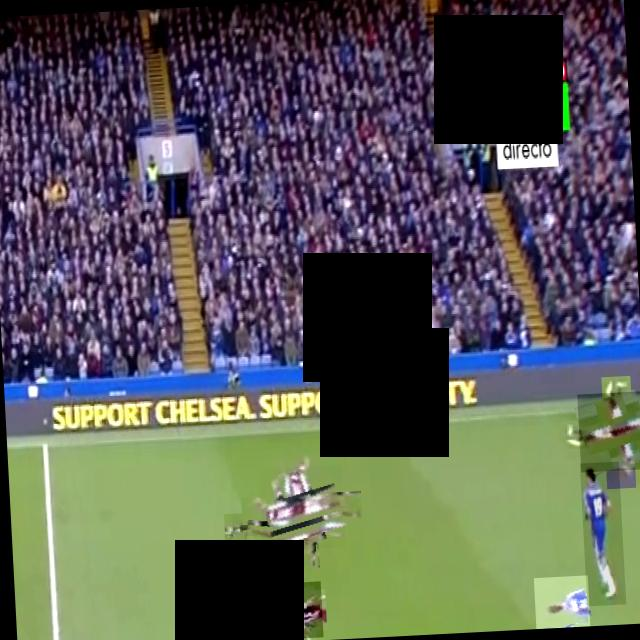referee: (242, 483, 326, 566)
soccer-player: (258, 464, 345, 550), (579, 460, 625, 606), (576, 390, 640, 471), (264, 580, 322, 640), (532, 574, 590, 630)
